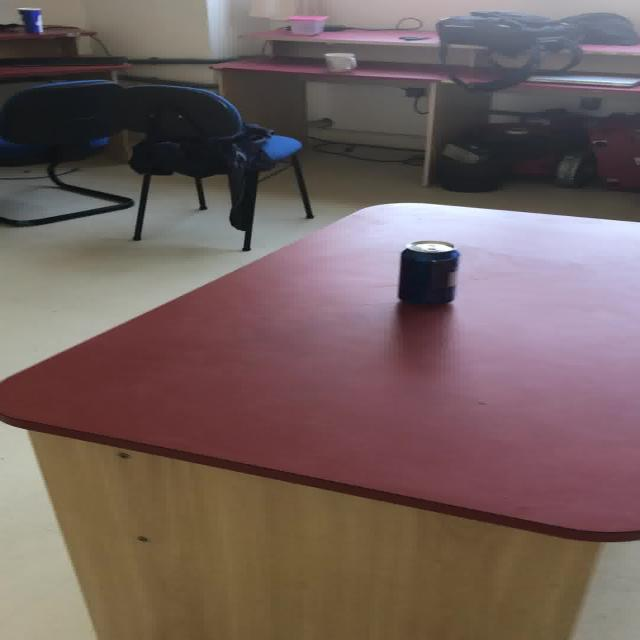tonic: (396, 239, 460, 304), (14, 6, 43, 33)
